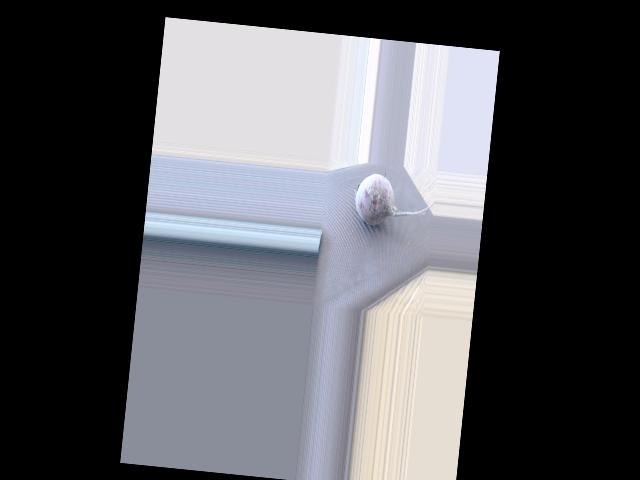beet: (352, 172, 436, 231)
